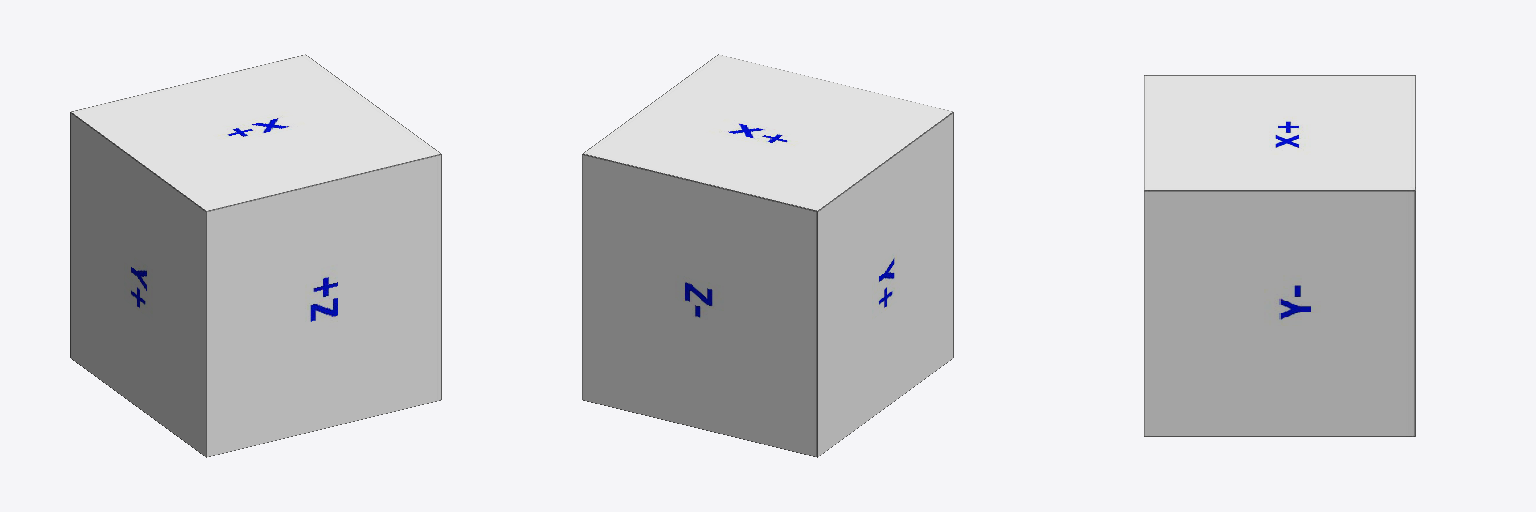
The picture shows the model from 3 angles: view 1: azimuth 30°, elevation 25°; view 2: azimuth 150°, elevation 25°; view 3: azimuth 270°, elevation 25°; orthographic projection.
Visible parts, largest first — view 1: box; view 2: box; view 3: box.
Part boxes in pixels (bbox=[...]): box: bbox=[70, 54, 441, 457]; box: bbox=[582, 54, 953, 457]; box: bbox=[1144, 75, 1415, 436].
Bounding box in the file's own units: 1 × 1 × 1.
1 materials, 1 textured.